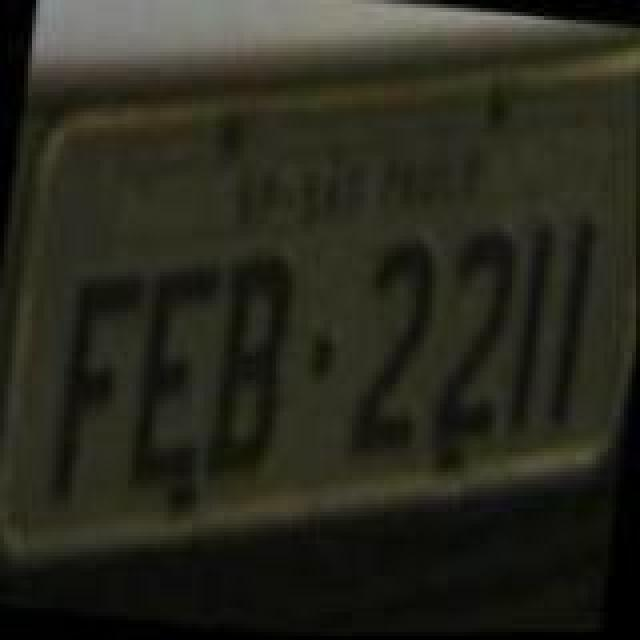1: (506, 218, 562, 434), (546, 218, 602, 434)
2: (346, 236, 442, 464), (430, 224, 518, 448)
B: (206, 248, 302, 480)
E: (122, 256, 222, 504)
F: (46, 264, 146, 516)
